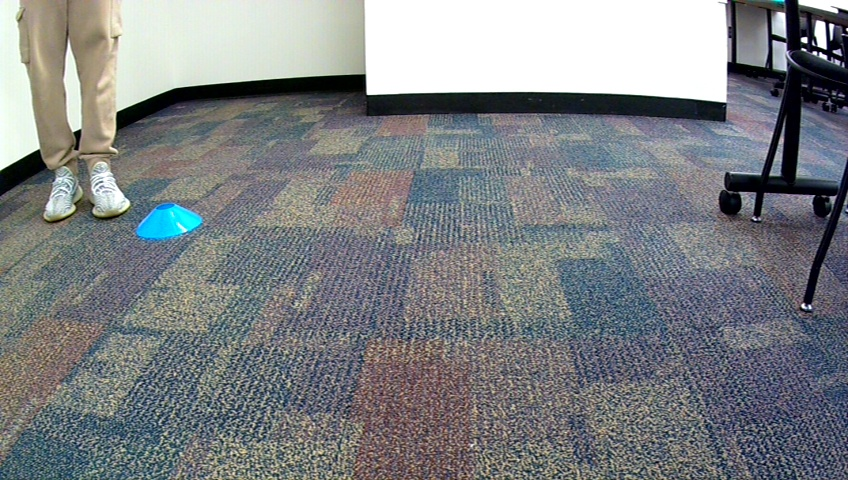cone: (134, 203, 203, 240)
